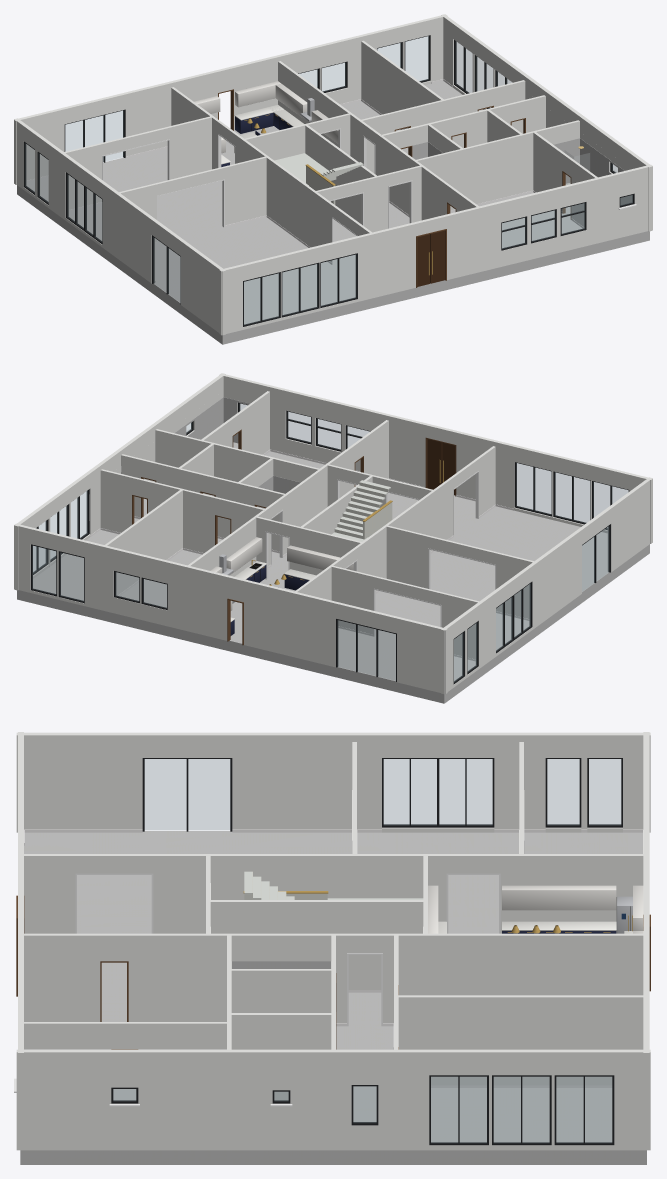
The model's file is int_est_S9_0.glb.
3 renders of one model, top to bottom at view 1: azimuth 30°, elevation 25°; view 2: azimuth 150°, elevation 25°; view 3: azimuth 270°, elevation 25°, orthographic. The views are drawn at different scales.
Visible parts, largest first — view 1: ROOM, WALL_0, WALL_9, WALL_4, WALL_1, WALL_10, WALL_12, WALL_2, WALL_8, WALL_3, WALL_16, WALL_13 (+7 smaller); view 2: ROOM, WALL_9, WALL_0, WALL_4, WALL_1, WALL_12, WALL_2, WALL_16, WALL_3, WALL_10, WALL_8, WALL_13 (+7 smaller); view 3: WALL_4, ROOM, WALL_12, WALL_2, WALL_1, WALL_17, WALL_10, WALL_7, WALL_11, WALL_14, WALL_15, WALL_9 (+3 smaller).
Boxes of the visible parts, left/top/right/bottom form: ROOM: left=17, top=79, right=649, bottom=344; WALL_0: left=219, top=164, right=652, bottom=335; WALL_9: left=14, top=14, right=447, bottom=184; WALL_4: left=14, top=118, right=225, bottom=335; WALL_1: left=125, top=87, right=371, bottom=264; WALL_10: left=415, top=92, right=652, bottom=228; WALL_12: left=441, top=14, right=652, bottom=231; WALL_2: left=278, top=61, right=478, bottom=220; WALL_8: left=64, top=116, right=211, bottom=209; WALL_3: left=119, top=156, right=266, bottom=243; WALL_16: left=360, top=80, right=525, bottom=173; WALL_13: left=380, top=95, right=545, bottom=156; ROOM: left=17, top=397, right=649, bottom=703; WALL_9: left=14, top=523, right=447, bottom=694; WALL_0: left=219, top=373, right=652, bottom=543; WALL_4: left=441, top=477, right=652, bottom=694; WALL_1: left=244, top=446, right=495, bottom=667; WALL_12: left=14, top=373, right=225, bottom=590; WALL_2: left=188, top=420, right=388, bottom=576; WALL_16: left=100, top=469, right=265, bottom=552; WALL_3: left=386, top=525, right=533, bottom=618; WALL_10: left=89, top=391, right=320, bottom=534; WALL_8: left=331, top=565, right=479, bottom=659; WALL_13: left=121, top=454, right=286, bottom=551; WALL_4: left=16, top=732, right=650, bottom=832; ROOM: left=20, top=829, right=646, bottom=1164; WALL_12: left=16, top=1049, right=650, bottom=1150; WALL_2: left=24, top=933, right=643, bottom=1026; WALL_1: left=24, top=854, right=643, bottom=933; WALL_17: left=396, top=995, right=643, bottom=1085; WALL_10: left=16, top=934, right=429, bottom=1145; WALL_7: left=210, top=900, right=423, bottom=989; WALL_11: left=24, top=1022, right=226, bottom=1049; WALL_14: left=231, top=969, right=333, bottom=1012; WALL_15: left=231, top=1013, right=333, bottom=1100; WALL_9: left=643, top=732, right=650, bottom=1150.
Size of the model in its own units: 25.61 by 4.2 by 21.41.
16 materials, 1 textured.
